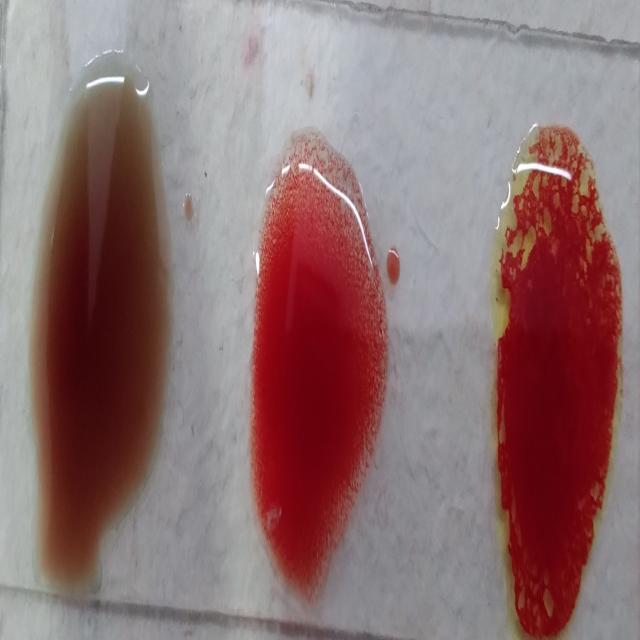B: (487, 126, 621, 640)
D: (248, 124, 386, 608)
